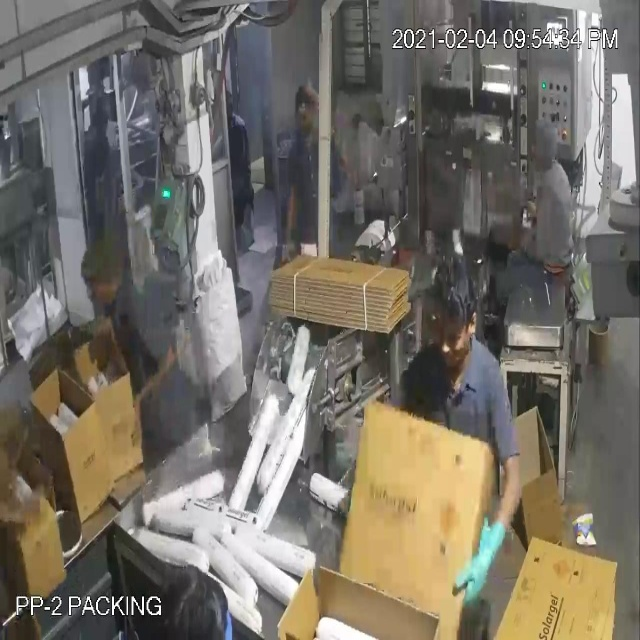Guantes: (446, 492, 514, 614)
Sin_guantes: (118, 359, 186, 425), (2, 477, 56, 548), (273, 171, 295, 284)
